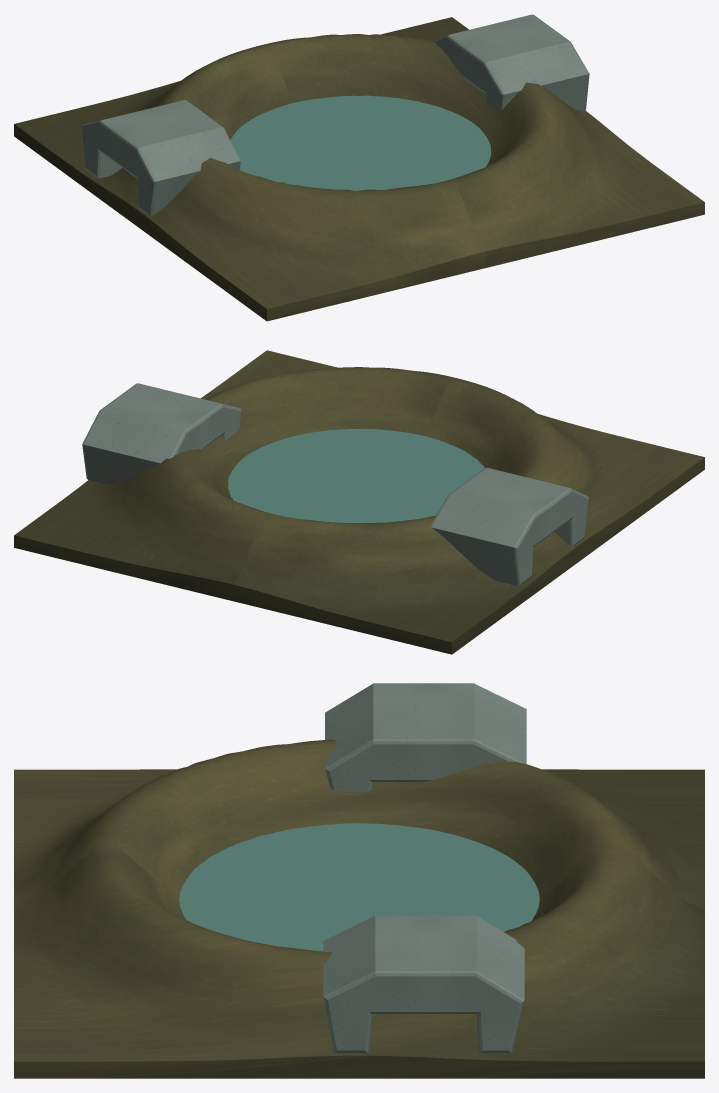
The model's file is bellroot-fen-floodward-marches-veilfin-spawning-pool-645b36e6__32931.glb.
3 renders of one model, top to bottom at view 1: azimuth 30°, elevation 25°; view 2: azimuth 150°, elevation 25°; view 3: azimuth 270°, elevation 25°, orthographic. The views are drawn at different scales.
Visible parts, largest first — view 1: veilfin-spawning-pool; view 2: veilfin-spawning-pool; view 3: veilfin-spawning-pool.
Part boxes in pixels (left/top/right/bottom): veilfin-spawning-pool: left=14, top=14, right=704, bottom=321; veilfin-spawning-pool: left=14, top=350, right=704, bottom=654; veilfin-spawning-pool: left=14, top=683, right=704, bottom=1078.
Bounding box in the file's own units: 3.7 × 0.622 × 3.7.
3 materials, 2 textured.
